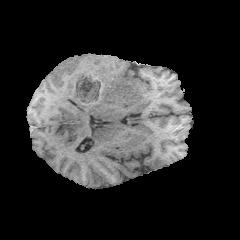glioma: (65, 56, 150, 119)
